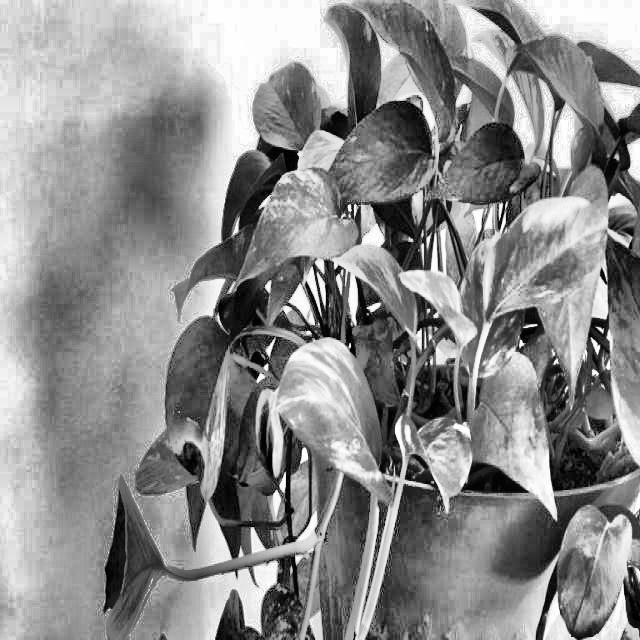plants: (90, 7, 640, 638), (473, 369, 577, 530), (160, 309, 233, 500), (95, 482, 167, 639), (250, 353, 294, 532)
